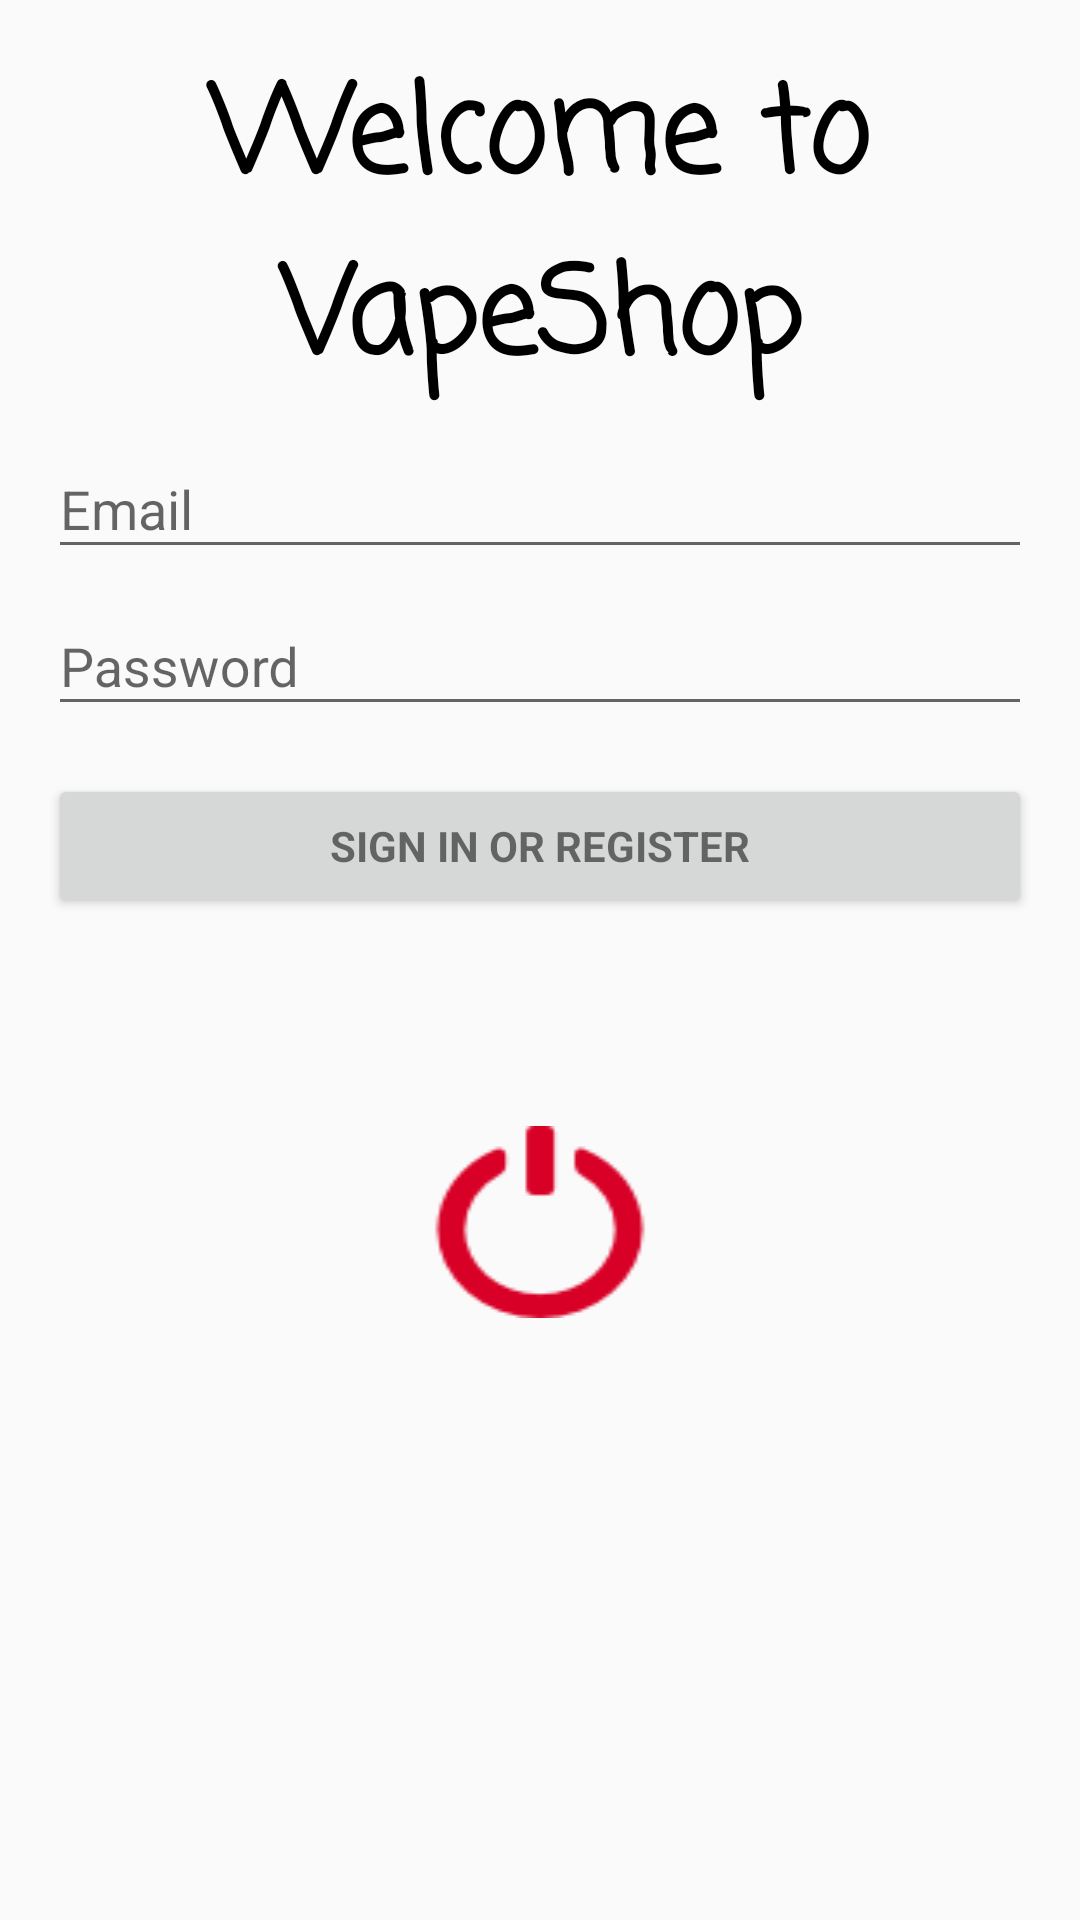

Icon click points for this 1080w x 1920h phone screenshot, format [x,y]:
shutdown: [540,1222]
